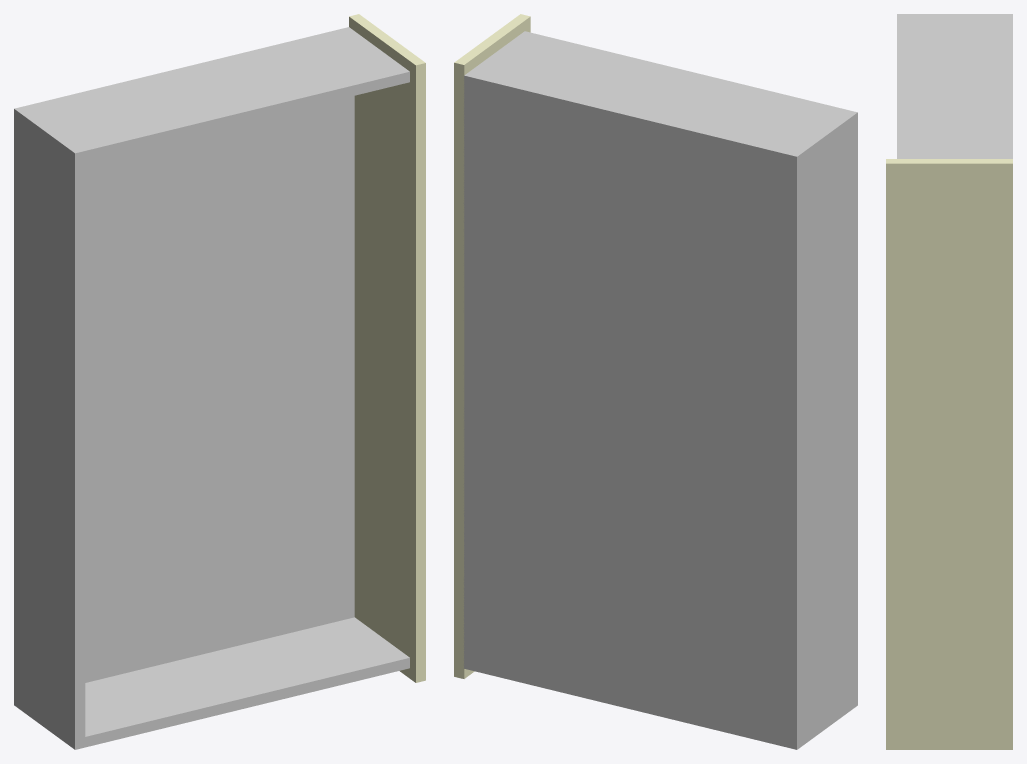
The model's file is ROOM602-CUPBOARD-BODYSET4_link_mesh.dae.
3 renders of one model, left to right at view 1: azimuth 30°, elevation 25°; view 2: azimuth 150°, elevation 25°; view 3: azimuth 270°, elevation 25°, orthographic. The views are drawn at different scales.
Visible parts, largest first — view 1: ROOM602-CUPBOARD-BODYSET4_link (×2); view 2: ROOM602-CUPBOARD-BODYSET4_link (×2); view 3: ROOM602-CUPBOARD-BODYSET4_link (×2).
Boxes of the visible parts, box(x1,y1,x2,y2) form: ROOM602-CUPBOARD-BODYSET4_link (×2): box(14, 14, 425, 749); ROOM602-CUPBOARD-BODYSET4_link (×2): box(454, 14, 857, 749); ROOM602-CUPBOARD-BODYSET4_link (×2): box(886, 14, 1012, 749).
Bounding box in the file's own units: 0.3425 × 0.586 × 0.115.
